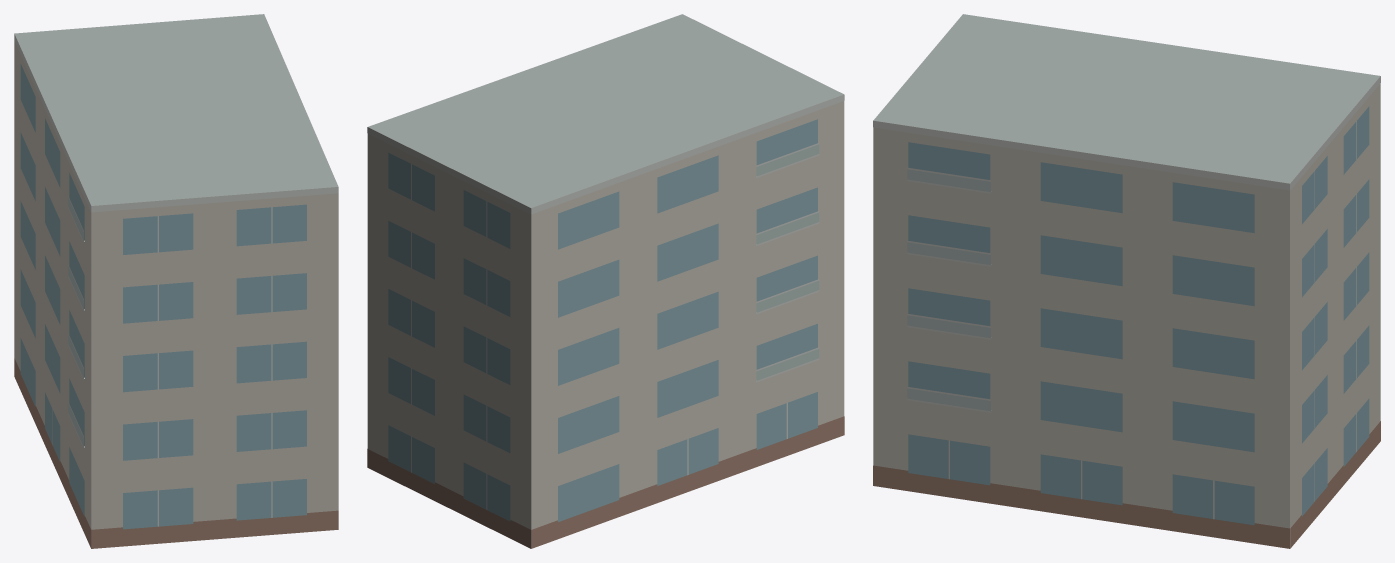
File: survey-upis-32885151.glb
The picture shows the model from 3 angles, left to right: view 1: azimuth 30°, elevation 25°; view 2: azimuth 150°, elevation 25°; view 3: azimuth 270°, elevation 25°; orthographic projection. The views are drawn at different scales.
Visible parts, largest first — view 1: survey-upis-32885151.tmp; view 2: survey-upis-32885151.tmp; view 3: survey-upis-32885151.tmp.
Boxes of the visible parts, x1,y1,x2,y2 form: survey-upis-32885151.tmp: (14, 14, 338, 548); survey-upis-32885151.tmp: (367, 14, 844, 548); survey-upis-32885151.tmp: (873, 14, 1380, 548).
Size of the model in its own units: 13.06 by 13.1 by 16.51.
